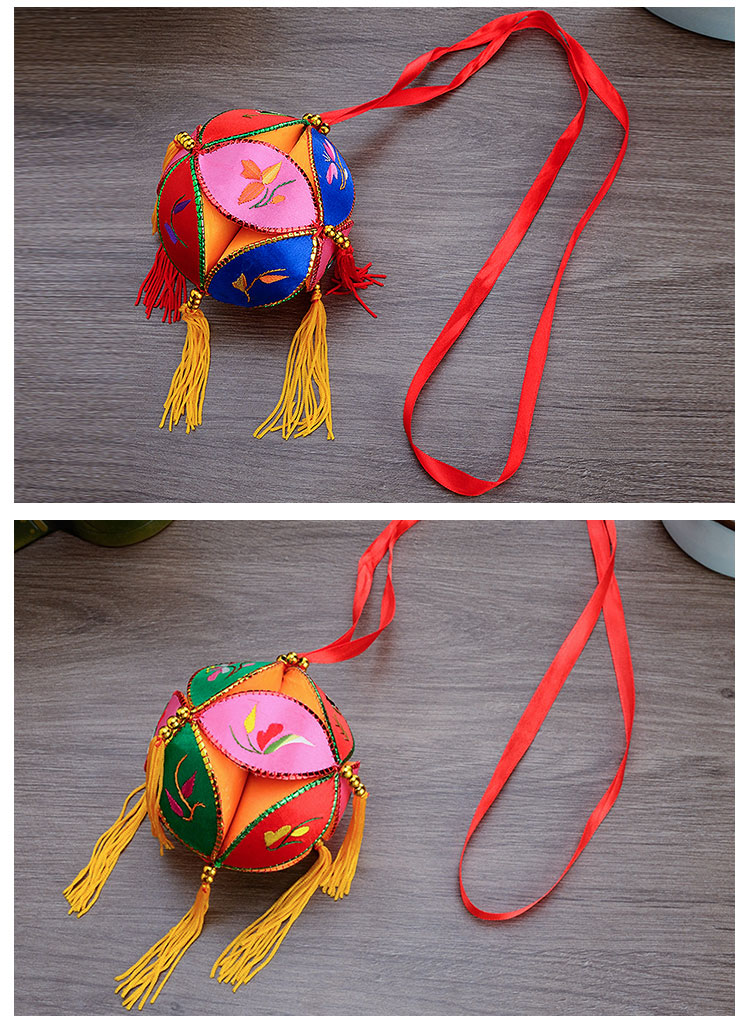xiuqiu: (149, 658, 356, 871), (156, 113, 356, 313)
